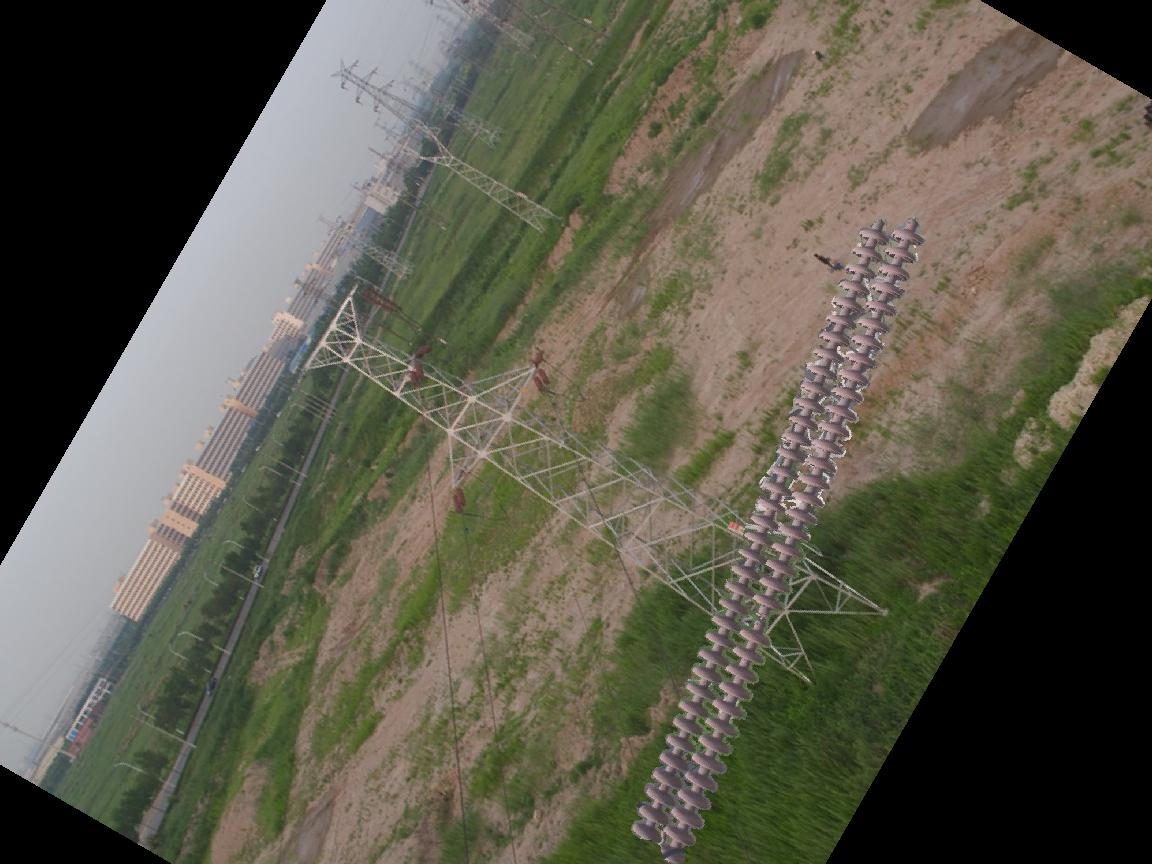insulator: (619, 217, 924, 864)
insulator_stringdrop: (736, 592, 786, 650)
